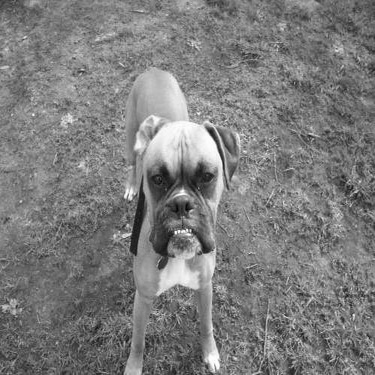dog: (76, 49, 246, 373)
